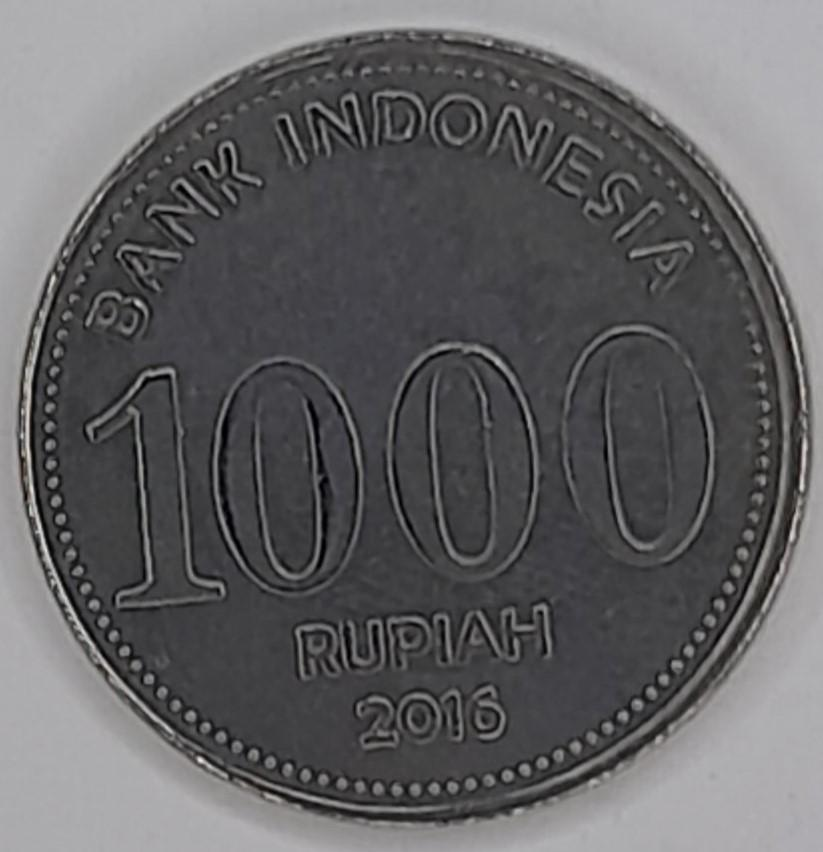coin_1000_e2016: (14, 17, 812, 852)
